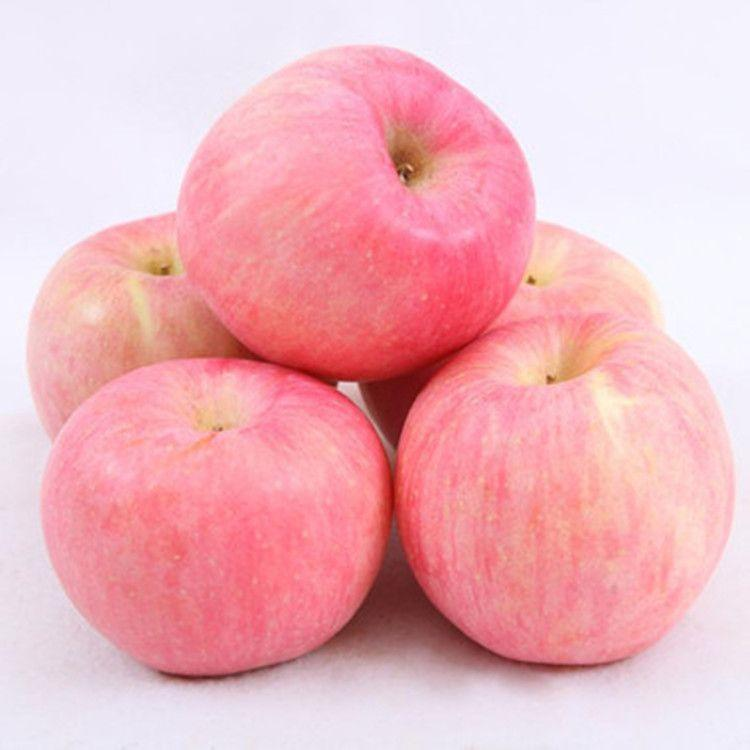apple: (395, 310, 740, 669), (166, 43, 537, 375), (34, 358, 396, 677), (22, 208, 236, 445)
